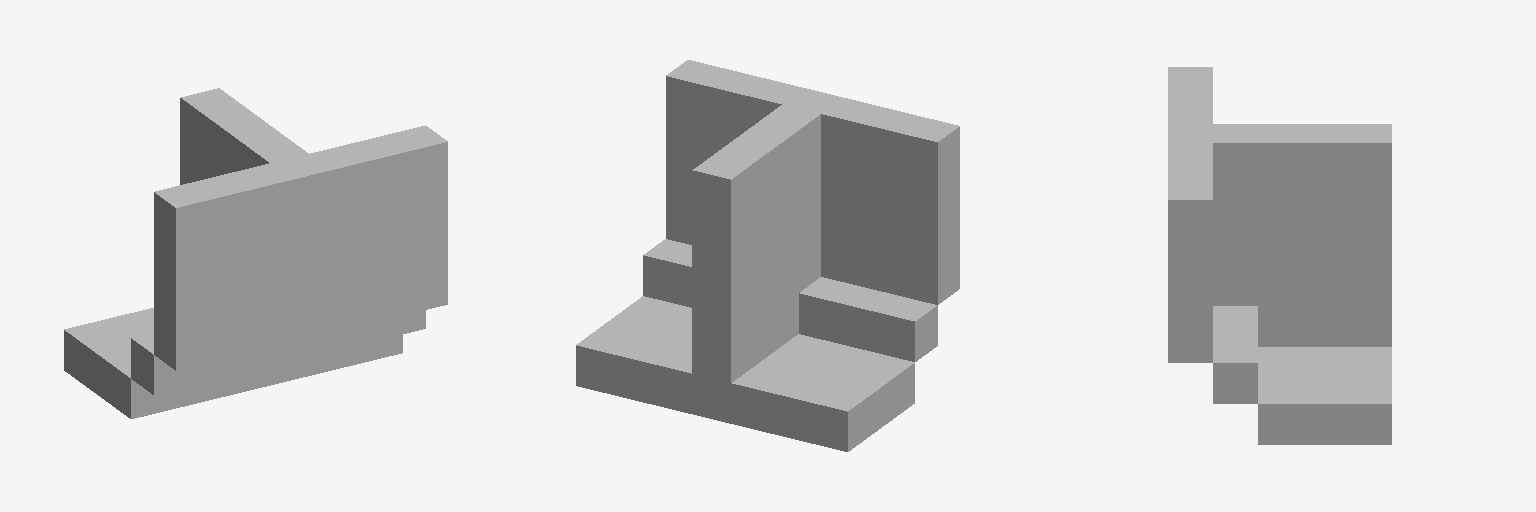
The model's file is environ-rail2.obj.
3 renders of one model, left to right at view 1: azimuth 30°, elevation 25°; view 2: azimuth 150°, elevation 25°; view 3: azimuth 270°, elevation 25°, orthographic.
Visible parts, largest first — view 1: rail2; view 2: rail2; view 3: rail2.
Part boxes in pixels (left/top/right/bottom): rail2: left=64, top=88, right=447, bottom=418; rail2: left=576, top=60, right=959, bottom=451; rail2: left=1168, top=67, right=1391, bottom=444.
Size of the model in its own units: 0.7 by 0.6 by 0.5.